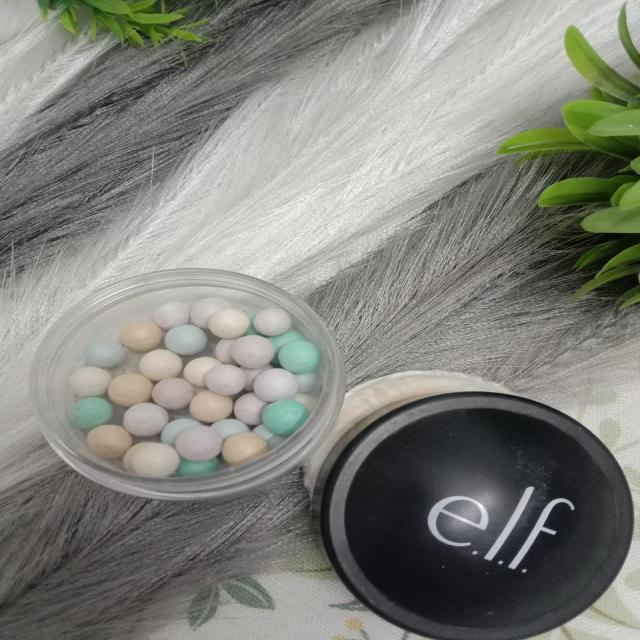powder: (40, 266, 339, 490)
